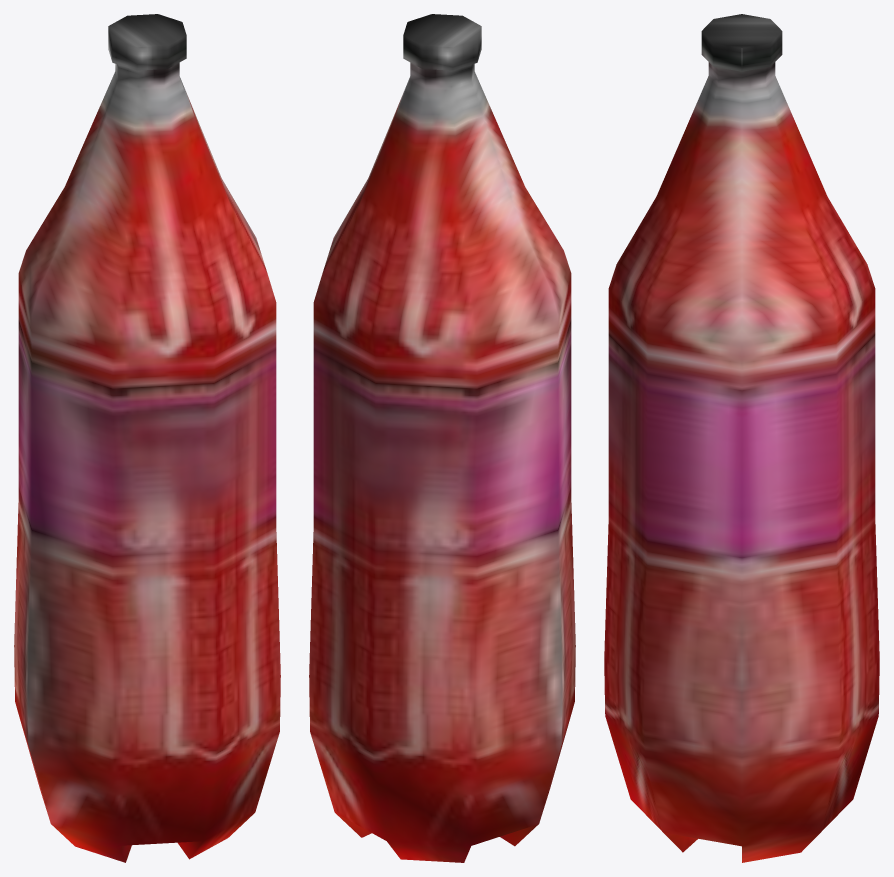
File: Soda.glb
The picture shows the model from 3 angles, left to right: view 1: azimuth 30°, elevation 25°; view 2: azimuth 150°, elevation 25°; view 3: azimuth 270°, elevation 25°; orthographic projection.
Parts seen in each view (by area): view 1: Soda; view 2: Soda; view 3: Soda.
Part boxes in pixels (x1=…): Soda: x1=14, y1=14, x2=280, y2=862; Soda: x1=309, y1=14, x2=575, y2=862; Soda: x1=604, y1=14, x2=879, y2=862.
Bounding box in the file's own units: 0.1943 × 0.6197 × 0.1943.
Materials: 1 (1 with a texture image).
